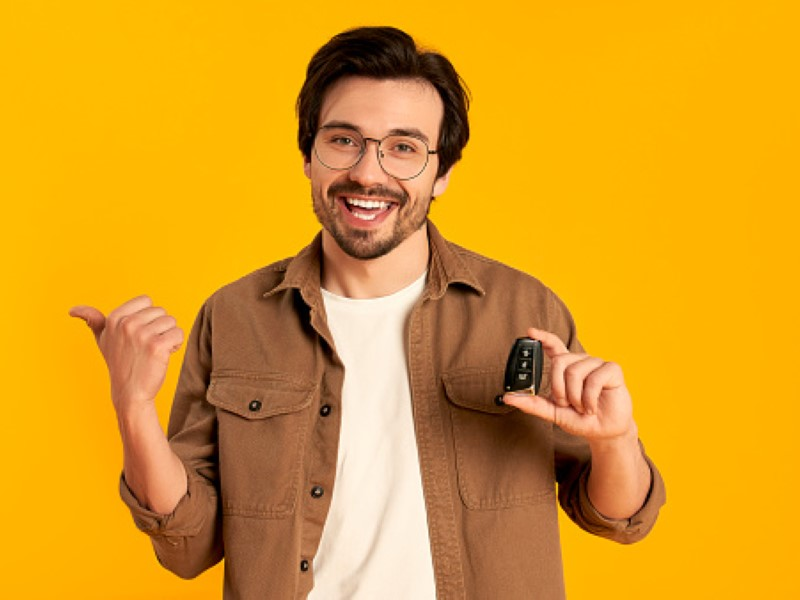carkey: (501, 333, 545, 399)
